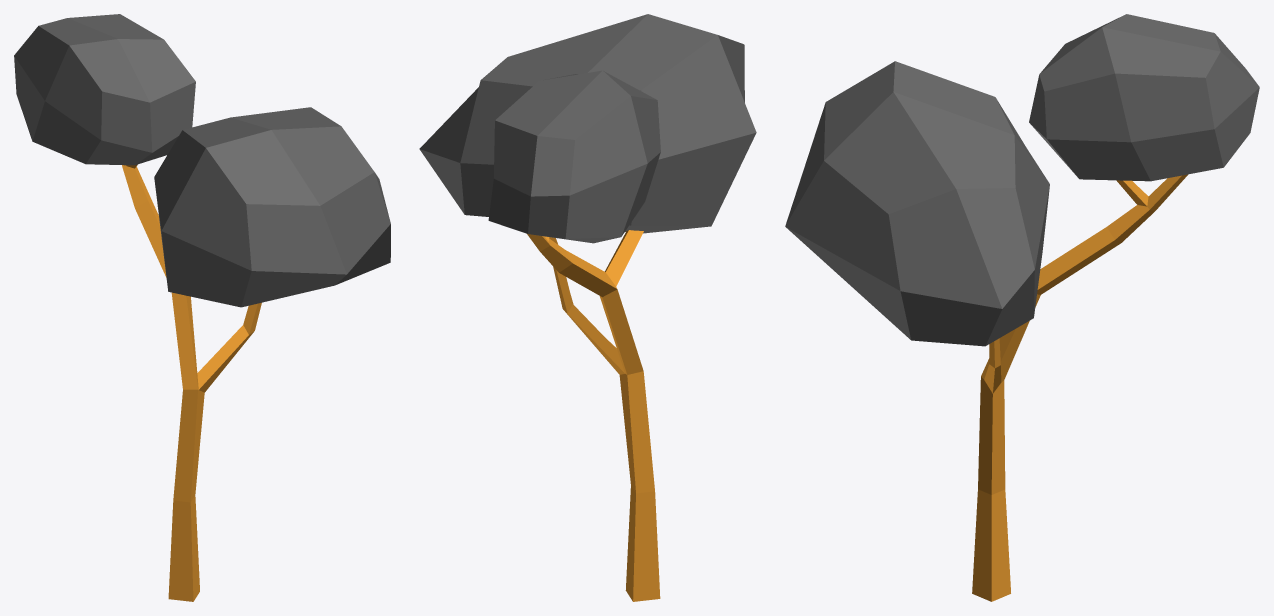
Rendered from oak_4.obj.
The picture shows the model from 3 angles, left to right: view 1: azimuth 30°, elevation 25°; view 2: azimuth 150°, elevation 25°; view 3: azimuth 270°, elevation 25°; orthographic projection. The views are drawn at different scales.
Visible parts, largest first — view 1: oak_4; view 2: oak_4; view 3: oak_4.
Boxes of the visible parts, x1=… form: oak_4: x1=14, y1=14, x2=390, y2=601; oak_4: x1=419, y1=14, x2=756, y2=601; oak_4: x1=785, y1=14, x2=1259, y2=601.
Size of the model in its own units: 26.26 by 48.17 by 37.09.
